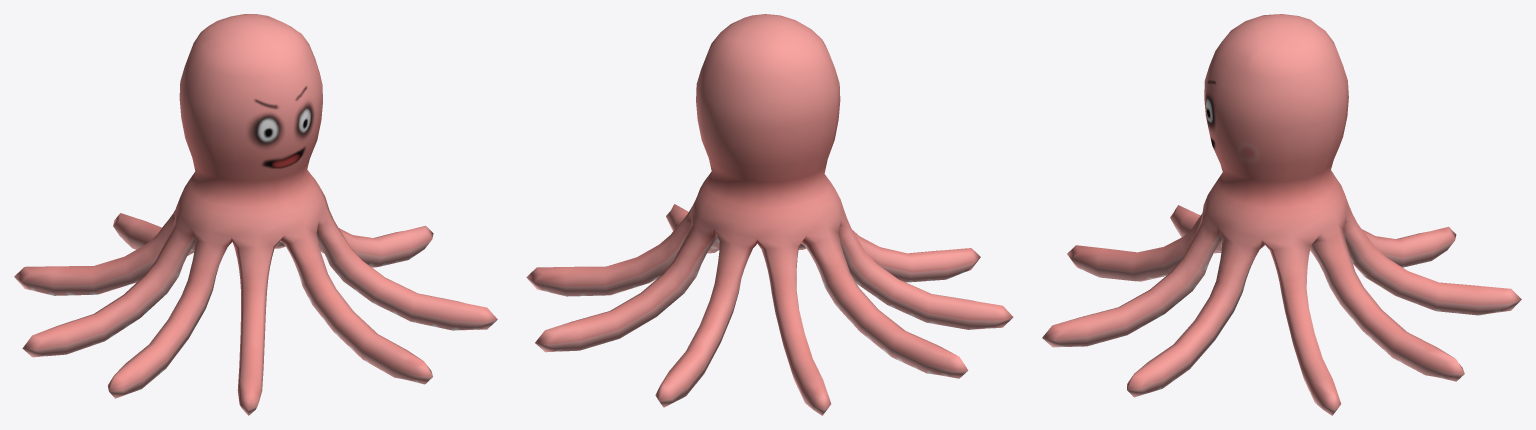
The picture shows the model from 3 angles, left to right: view 1: azimuth 30°, elevation 25°; view 2: azimuth 150°, elevation 25°; view 3: azimuth 270°, elevation 25°; orthographic projection.
Visible parts, largest first — view 1: Box013; view 2: Box013; view 3: Box013.
Boxes of the visible parts, x1,y1,x2,y2 form: Box013: (14,14,497,415); Box013: (526,14,1013,415); Box013: (1042,14,1521,415).
Size of the model in its own units: 91.12 by 88.94 by 61.32.
1 material, 1 textured.
